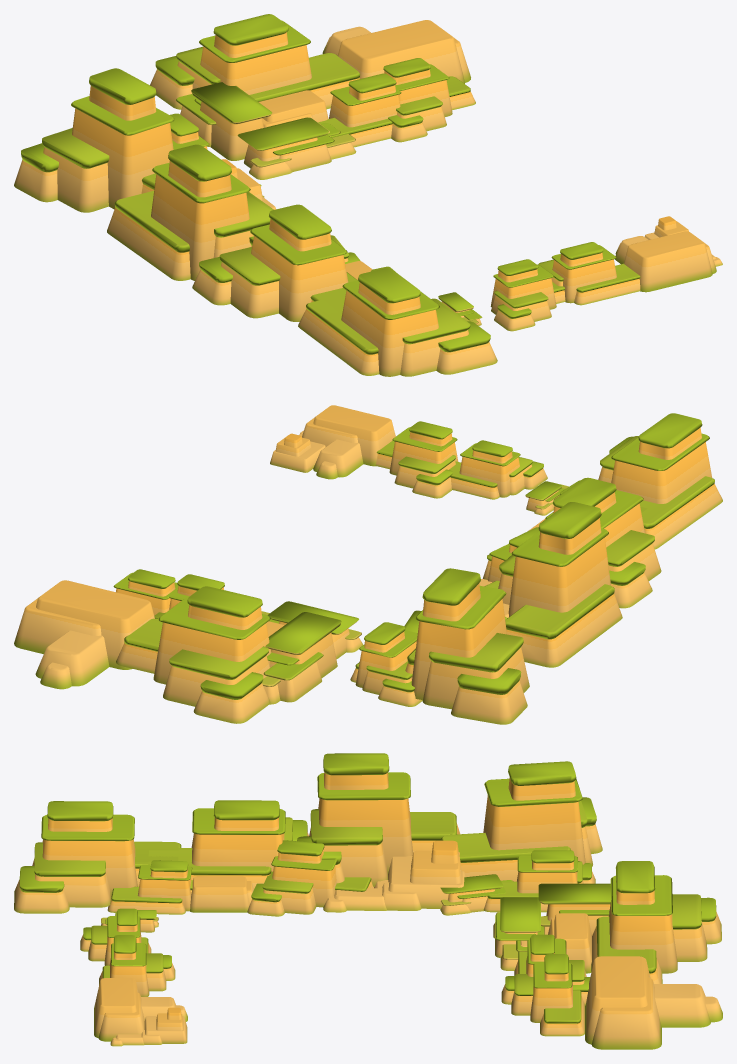
Rendered from Hill_Group.fbx.
3 renders of one model, top to bottom at view 1: azimuth 30°, elevation 25°; view 2: azimuth 150°, elevation 25°; view 3: azimuth 270°, elevation 25°, orthographic. The views are drawn at different scales.
Visible parts, largest first — view 1: Hill_4.010, Hill_4.011, Hill_4.009, Hill_4.008, Hill_4.012, Hill_1.004, Hill_3.002, Hill_4.002, Hill_3.003, Hill_1.003, Hill_4.007, Hill_4.003 (+5 smaller); view 2: Hill_4.012, Hill_4.009, Hill_4.010, Hill_1.004, Hill_4.011, Hill_4.008, Hill_3.003, Hill_1.003, Hill_4.007, Hill_4.006, Hill_4.004, Hill_3.002 (+5 smaller); view 3: Hill_4.009, Hill_4.011, Hill_4.010, Hill_4.012, Hill_1.004, Hill_4.008, Hill_2.001, Hill_4.005, Hill_4.002, Hill_1.003, Hill_4.001, Hill_4.004 (+10 smaller).
Boxes of the visible parts, x1,y1,x2,y2 form: Hill_4.010: [14, 68, 174, 212]; Hill_4.011: [298, 268, 497, 376]; Hill_4.009: [107, 144, 273, 280]; Hill_4.008: [192, 204, 357, 321]; Hill_4.012: [150, 14, 360, 109]; Hill_1.004: [322, 20, 470, 83]; Hill_3.002: [237, 117, 356, 179]; Hill_4.002: [383, 58, 475, 142]; Hill_3.003: [175, 82, 272, 160]; Hill_1.003: [615, 231, 716, 292]; Hill_4.007: [538, 242, 640, 305]; Hill_4.003: [318, 73, 401, 147]; Hill_4.012: [116, 586, 271, 723]; Hill_4.009: [498, 502, 622, 667]; Hill_4.010: [405, 568, 529, 724]; Hill_1.004: [14, 580, 154, 689]; Hill_4.011: [598, 413, 722, 549]; Hill_4.008: [545, 477, 661, 608]; Hill_3.003: [262, 612, 341, 704]; Hill_1.003: [302, 405, 395, 479]; Hill_4.007: [375, 421, 458, 498]; Hill_4.006: [449, 440, 547, 499]; Hill_4.004: [350, 622, 422, 706]; Hill_3.002: [261, 601, 363, 659]; Hill_4.009: [297, 753, 460, 886]; Hill_4.011: [14, 801, 181, 913]; Hill_4.010: [441, 761, 602, 881]; Hill_4.012: [591, 861, 721, 983]; Hill_1.004: [585, 956, 722, 1049]; Hill_4.008: [148, 800, 308, 889]; Hill_2.001: [323, 840, 465, 912]; Hill_4.005: [247, 840, 373, 916]; Hill_4.002: [501, 954, 584, 1036]; Hill_1.003: [94, 978, 187, 1041]; Hill_4.001: [107, 860, 192, 914]; Hill_4.004: [483, 850, 595, 912].
Bounding box in the file's own units: 12671 × 9095 × 2036.
